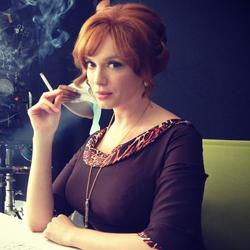smoking: (23, 70, 67, 144)
